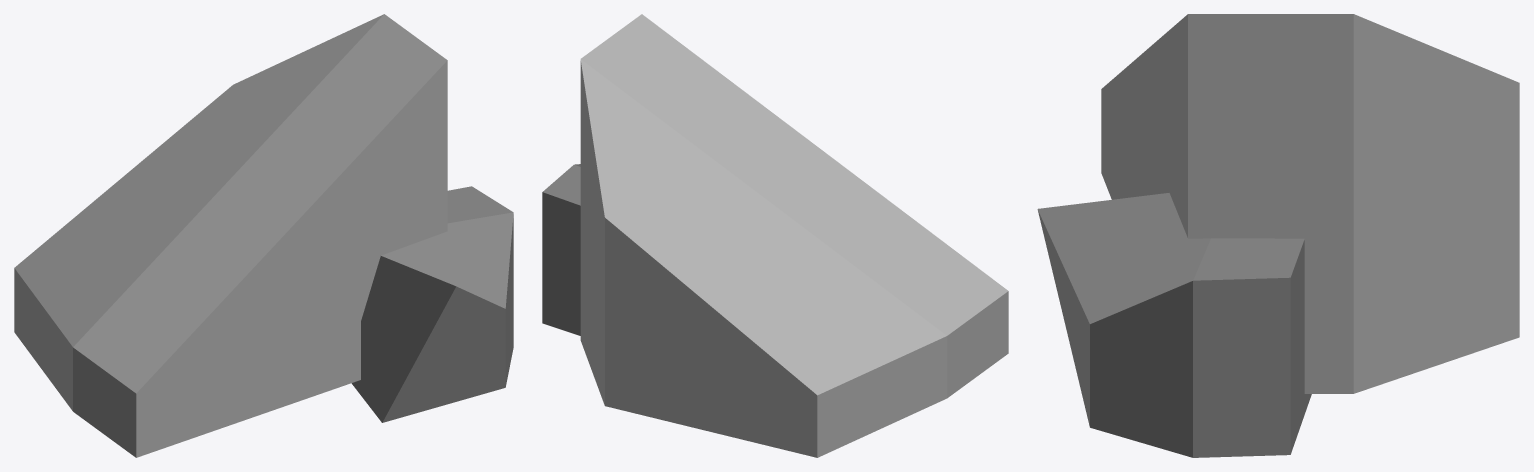
File: Rock_Type5_04.glb
3 views of the same model, side by side, from view 1: azimuth 30°, elevation 25°; view 2: azimuth 150°, elevation 25°; view 3: azimuth 270°, elevation 25° (orthographic). The views are drawn at different scales.
Parts seen in each view (by area): view 1: Rock Type5 04 mesh; view 2: Rock Type5 04 mesh; view 3: Rock Type5 04 mesh.
Boxes of the visible parts, x1,y1,x2,y2 form: Rock Type5 04 mesh: [14, 14, 513, 457]; Rock Type5 04 mesh: [542, 14, 1008, 457]; Rock Type5 04 mesh: [1037, 14, 1519, 457].
Size of the model in its own units: 1.18 by 0.8351 by 0.911.
Materials: 1 (1 with a texture image).
